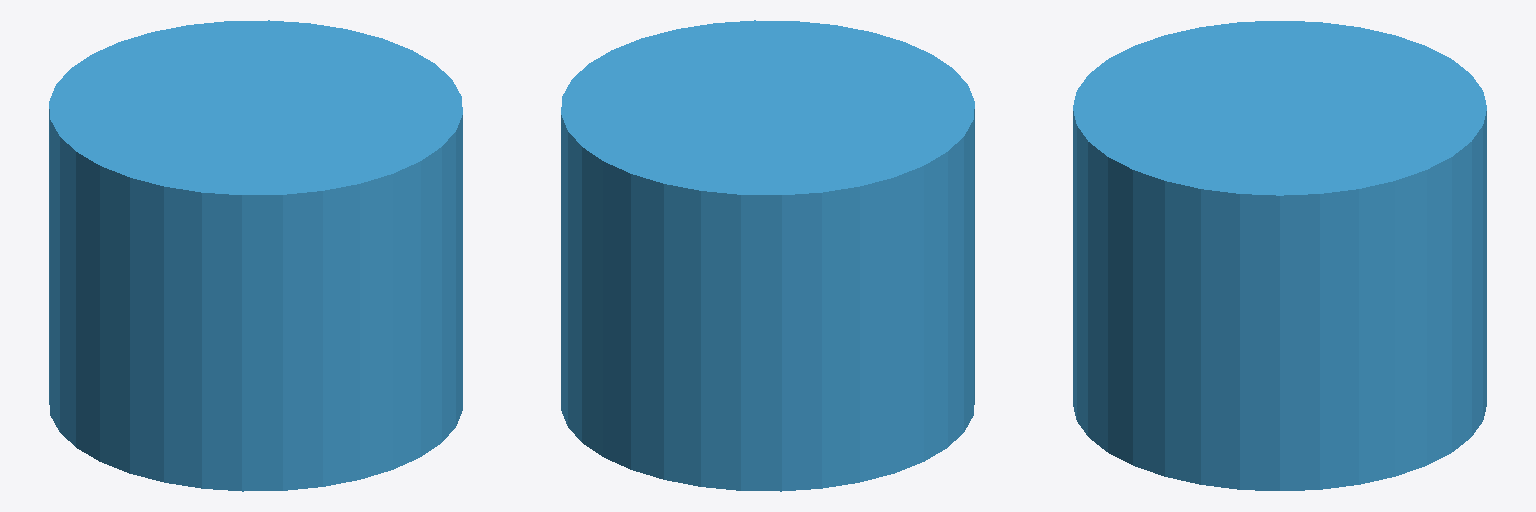
The robot description file, URDF, robot "typhoon_h480":
<?xml version="1.0" ?>
<robot name="typhoon_h480">
  <!-- Made all revolute joints fixed so that the transforms could appear in Rviz. Were not moving when revolute anyway. -->
  <joint name="typhoon_h480__cgo3_mount_joint" type="fixed">
    <parent link="base_link"/>
    <child link="typhoon_h480__cgo3_mount_link"/>
    <origin xyz="0   0   0.26" rpy="0 0 0"/>
    <axis xyz="0 0 1"/>
    <limit lower="0.0" upper="0.0" effort="100.0" velocity="-1.0"/>
  </joint>
  <joint name="typhoon_h480__cgo3_vertical_arm_joint" type="fixed"> 
    <parent link="typhoon_h480__cgo3_mount_link"/>
    <child link="typhoon_h480__cgo3_vertical_arm_link"/>
    <origin xyz="-0.026  0    -0.1" rpy="0 0 0"/>
    <axis xyz="0 0 1"/>
    <limit lower="-1e+16" upper="1e+16" effort="100.0" velocity="-1.0"/>
  </joint>
  <joint name="typhoon_h480__cgo3_horizontal_arm_joint" type="fixed">
    <parent link="typhoon_h480__cgo3_vertical_arm_link"/>
    <child link="typhoon_h480__cgo3_horizontal_arm_link"/>
    <origin xyz="-0.044  0    -0.062" rpy="0 0 0"/>
    <axis xyz="-1  0  0"/>
    <limit lower="-0.785398" upper="0.785398" effort="100.0" velocity="-1.0"/>
  </joint>
  <joint name="typhoon_h480__cgo3_camera_joint" type="fixed">
    <parent link="typhoon_h480__cgo3_horizontal_arm_link"/>
    <child link="camera_link"/>
    <origin xyz="0.06 0.03 0" rpy="0 0 0"/>
    <axis xyz="0 -1  0"/>
    <limit lower="-1.5708" upper="0.7854" effort="100.0" velocity="-1.0"/>
  </joint>
  <joint name="typhoon_h480__left_leg_joint" type="fixed">
    <parent link="base_link"/>
    <child link="typhoon_h480__left_leg"/>
    <origin xyz="0.00025 -0.04051  0.212" rpy="0 0 0"/>
    <axis xyz="-1  0  0"/>
    <limit lower="0.0" upper="1.0" effort="100.0" velocity="-1.0"/>
  </joint>
  <joint name="typhoon_h480__right_leg_joint" type="fixed">
    <parent link="base_link"/>
    <child link="typhoon_h480__right_leg"/>
    <origin xyz="0.00025 0.04051 0.212" rpy="0 0 0"/>
    <axis xyz="1 0 0"/>
    <limit lower="0.0" upper="1.0" effort="100.0" velocity="-1.0"/>
  </joint>
  <joint name="typhoon_h480__typhoon_h480/imu_joint" type="fixed">
    <parent link="base_link"/>
    <child link="imu_link"/>
    <origin xyz="0   0   0.26" rpy="0 0 0"/>
    <axis xyz="1 0 0"/>
    <limit lower="0.0" upper="0.0" effort="0.0" velocity="0.0"/>
  </joint>
  <joint name="typhoon_h480__lidar_joint" type="fixed">
    <parent link="base_link"/>
    <child link="lidar_link"/>
    <origin xyz="0   0   0.26" rpy="0 0 0"/>
    <axis xyz="0 0 0"/>
    <limit lower="0" upper="0" effort="0" velocity="0"/>
  </joint>
  <joint name="typhoon_h480__gps_joint" type="fixed">
    <parent link="base_link"/>
    <child link="gps_link"/>
    <origin xyz="0   0   0.26" rpy="0 0 0"/>
    <axis xyz="0 0 0"/>
    <limit lower="0" upper="0" effort="0" velocity="0"/>
  </joint>
  <joint name="typhoon_h480__rotor_3_joint" type="fixed">
    <parent link="base_link"/>
    <child link="typhoon_h480__rotor_3"/>
    <origin xyz="0.21139 0.11976 0.34221" rpy="0 0 0"/>
    <axis xyz="0 0 1"/>
    <limit lower="-1e+16" upper="1e+16" effort="10.0" velocity="-1.0"/>
  </joint>
  <joint name="typhoon_h480__rotor_0_joint" type="fixed">
    <parent link="base_link"/>
    <child link="typhoon_h480__rotor_0"/>
    <origin xyz="-0.20939  0.12276  0.34221" rpy="0      0      2.09439"/>
    <axis xyz="0 0 1"/>
    <limit lower="-1e+16" upper="1e+16" effort="10.0" velocity="-1.0"/>
  </joint>
  <joint name="typhoon_h480__rotor_4_joint" type="fixed">
    <parent link="base_link"/>
    <child link="typhoon_h480__rotor_4"/>
    <origin xyz="-0.00187  0.2427   0.34221" rpy="0 0 0"/>
    <axis xyz="0 0 1"/>
    <limit lower="-1e+16" upper="1e+16" effort="10.0" velocity="-1.0"/>
  </joint>
  <joint name="typhoon_h480__rotor_1_joint" type="fixed">
    <parent link="base_link"/>
    <child link="typhoon_h480__rotor_1"/>
    <origin xyz="0.21139 -0.11976  0.34221" rpy="0       0      -2.09439"/>
    <axis xyz="0 0 1"/>
    <limit lower="-1e+16" upper="1e+16" effort="10.0" velocity="-1.0"/>
  </joint>
  <joint name="typhoon_h480__rotor_5_joint" type="fixed">
    <parent link="base_link"/>
    <child link="typhoon_h480__rotor_5"/>
    <origin xyz="-0.00187 -0.2427   0.34221" rpy="0       0      -2.09439"/>
    <axis xyz="0 0 1"/>
    <limit lower="-1e+16" upper="1e+16" effort="10.0" velocity="-1.0"/>
  </joint>
  <joint name="typhoon_h480__rotor_2_joint" type="fixed">
    <parent link="base_link"/>
    <child link="typhoon_h480__rotor_2"/>
    <origin xyz="-0.20939 -0.12276  0.34221" rpy="0      0      2.09439"/>
    <axis xyz="0 0 1"/>
    <limit lower="-1e+16" upper="1e+16" effort="10.0" velocity="-1.0"/>
  </joint>
  <joint name="depth_camera_optical_joint" type="fixed">
    <parent link="camera_link"/>
    <child link="depth_camera_optical_link"/>
    <origin rpy="-1.57079632679 0 -1.57079632679" xyz="0 0 0"/>
    <axis xyz="0 0 0"/>
  </joint>
  <link name="depth_camera_optical_link"></link>
  <link name="base_link">
    <inertial>
      <mass value="2.02"/>
      <origin xyz="0.001  0    -0.009" rpy="0 0 0"/>
      <inertia ixx="0.011" ixy="0" ixz="0" iyy="0.015" iyz="0" izz="0.021"/>
    </inertial>
    <collision name="base_link_collision">
      <origin xyz="0   0   0.26" rpy="0 0 0"/>
      <geometry>
        <box size="0.67 0.67 0.15"/>
      </geometry>
    </collision>
    <visual name="base_link_visual">
      <origin xyz="0   0   0.26" rpy="0      0      3.14159"/>
      <geometry>
        <mesh filename="package://drone_nav/description/meshes/main_body_remeshed_v3.stl" scale="0.001 0.001 0.001"/>
      </geometry>
    </visual>
  </link>
  <link name="typhoon_h480__cgo3_mount_link">
    <inertial>
      <mass value="0.1"/>
      <origin xyz="-0.041  0    -0.162" rpy="0 0 0"/>
      <inertia ixx="0.001" ixy="0" ixz="0" iyy="0.001" iyz="0" izz="0.001"/>
    </inertial>
    <visual name="typhoon_h480__cgo3_mount_visual">
      <origin xyz="0 0 0" rpy="0 0 0"/>
      <geometry>
        <mesh filename="package://drone_nav/description/meshes/cgo3_mount_remeshed_v1.stl" scale="0.001 0.001 0.001"/>
      </geometry>
    </visual>
  </link>
  <link name="typhoon_h480__cgo3_vertical_arm_link">
    <inertial>
      <mass value="0.1"/>
      <origin xyz="-0.041  0    -0.162" rpy="0 0 0"/>
      <inertia ixx="0.001" ixy="0" ixz="0" iyy="0.001" iyz="0" izz="0.001"/>
    </inertial>
    <visual name="typhoon_h480__cgo3_vertical_arm_visual">
      <origin xyz="-0.025  0     0.1" rpy="0      0      3.14159"/>
      <geometry>
        <mesh filename="package://drone_nav/description/meshes/cgo3_vertical_arm_remeshed_v1.stl" scale="0.001 0.001 0.001"/>
      </geometry>
    </visual>
  </link>
  <link name="typhoon_h480__cgo3_horizontal_arm_link">
    <inertial>
      <mass value="0.1"/>
      <origin xyz="-0.041  0    -0.081" rpy="0 0 0"/>
      <inertia ixx="0.001" ixy="0" ixz="0" iyy="0.001" iyz="0" izz="0.001"/>
    </inertial>
    <visual name="typhoon_h480__cgo3_horizontal_arm_visual">
      <origin xyz="0.02  0    0.162" rpy="0      0      3.14159"/>
      <geometry>
        <mesh filename="package://drone_nav/description/meshes/cgo3_horizontal_arm_remeshed_v1.stl" scale="0.001 0.001 0.001"/>
      </geometry>
    </visual>
  </link>
  <link name="camera_link">
    <inertial>
      <mass value="0.1"/>
      <origin xyz="-0.041  0    -0.162" rpy="0 0 0"/>
      <inertia ixx="0.001" ixy="0" ixz="0" iyy="0.001" iyz="0" izz="0.001"/>
    </inertial>
    <collision name="typhoon_h480__cgo3_camera_collision">
      <origin xyz="-0.031 -0.03   0" rpy="0 0 0"/>
      <geometry>
        <sphere radius="0.035"/>
      </geometry>
    </collision>
    <visual name="typhoon_h480__cgo3_camera_visual">
      <origin xyz="-0.04  -0.03   0.162" rpy="0      0      3.14159"/>
      <geometry>
        <mesh filename="package://drone_nav/description/meshes/cgo3_camera_remeshed_v1.stl" scale="0.001 0.001 0.001"/>
      </geometry>
    </visual>
  </link>
  <link name="typhoon_h480__left_leg">
    <inertial>
      <mass value="0.1"/>
      <origin xyz="0      -0.14313 -0.20725" rpy="0 0 0"/>
      <inertia ixx="0.001" ixy="0" ixz="0" iyy="0.001" iyz="0" izz="0.001"/>
    </inertial>
    <collision name="typhoon_h480__collision">
      <origin xyz="-0.00526 -0.10262 -0.15925" rpy="0      1.56893 0"/>
      <geometry>
        <cylinder radius="0.012209" length="0.3"/>
      </geometry>
    </collision>
    <collision name="typhoon_h480__collision_bar">
      <origin xyz="0.00025 -0.04451 -0.07318" rpy="-0.50131  0       0"/>
      <geometry>
        <cylinder radius="0.00914984" length="0.176893"/>
      </geometry>
    </collision>
    <visual name="base_link_left_leg">
      <origin xyz="-0.00025  0.04051  0.048" rpy="0 0 0"/>
      <geometry>
        <mesh filename="package://drone_nav/description/meshes/leg2_remeshed_v3.stl" scale="0.001 0.001 0.001"/>
      </geometry>
    </visual>
  </link>
  <link name="typhoon_h480__right_leg">
    <inertial>
      <mass value="0.1"/>
      <origin xyz="0       0.14313 -0.20725" rpy="0 0 0"/>
      <inertia ixx="0.001" ixy="0" ixz="0" iyy="0.001" iyz="0" izz="0.001"/>
    </inertial>
    <collision name="typhoon_h480__collision">
      <origin xyz="-0.00526  0.10262 -0.15925" rpy="0      1.56893 0"/>
      <geometry>
        <cylinder radius="0.012209" length="0.3"/>
      </geometry>
    </collision>
    <collision name="typhoon_h480__collision_bar">
      <origin xyz="0.00025  0.04451 -0.07318" rpy="0.50131 0      0"/>
      <geometry>
        <cylinder radius="0.00914984" length="0.176893"/>
      </geometry>
    </collision>
    <visual name="base_link_right_leg">
      <origin xyz="-0.00025 -0.04051  0.048" rpy="0 0 0"/>
      <geometry>
        <mesh filename="package://drone_nav/description/meshes/leg1_remeshed_v3.stl" scale="0.001 0.001 0.001"/>
      </geometry>
    </visual>
  </link>
  <link name="imu_link">
    <inertial>
      <mass value="0.015"/>
      <origin xyz="0 0 0" rpy="0 0 0"/>
      <inertia ixx="1e-05" ixy="0" ixz="0" iyy="1e-05" iyz="0" izz="1e-05"/>
    </inertial>
  </link>
  <link name="lidar_link">
    <inertial>
      <mass value="0.114"/>
      <origin xyz="0.06 0   0.06" rpy="0 0 0"/>
      <inertia ixx="0.001" ixy="0.000" ixz="0.000" iyy="0.001" iyz="0.000" izz="0.001"/>
    </inertial>
    <collision name="typhoon_h480__lidar_collision">
      <origin xyz="0.06 0   0.06" rpy="0 0 0"/>
      <geometry>
        <cylinder radius="0.0508" length="0.07"/>
      </geometry>
    </collision>
    <visual name="typhoon_h480__lidar_visual">
      <origin xyz="0.02 0   0.04" rpy="0 0 0"/>
      <geometry>
        <cylinder radius="0.0508" length="0.08"/>
      </geometry>
    </visual>
  </link>
  <!-- <link name="depth_camera_link">
    <inertial>
      <mass value="0"/>
      <origin rpy="0 0 0" xyz="0 0 0"/>
      <inertia ixx="0" ixy="0" ixz="0" iyy="0" iyz="0" izz="0"/>
    </inertial>
    <visual name="typhoon_h480__camera_visual">
      <origin rpy="0 0 0" xyz="0.047  0    -0.01"/>
      <geometry>
        <box size="0.015 0.08 0.022"/>
      </geometry>
    </visual>
  </link> -->
  <link name="gps_link">
    <inertial>
      <mass value="0.015"/>
      <origin xyz="0 0 0" rpy="0 0 0"/>
      <inertia ixx="1e-05" ixy="0" ixz="0" iyy="1e-05" iyz="0" izz="1e-05"/>
    </inertial>
    <visual name="typhoon_h480__visual">
      <origin xyz="0 0 0" rpy="0 0 0"/>
      <geometry>
        <cylinder radius="0.01" length="0.002"/>
      </geometry>
    </visual>
  </link>
  <link name="typhoon_h480__rotor_3">
    <inertial>
      <mass value="0.005"/>
      <origin xyz="0 0 0" rpy="0 0 0"/>
      <inertia ixx="9.75e-07" ixy="0" ixz="0" iyy="0.000273104" iyz="0" izz="0.000274004"/>
    </inertial>
    <collision name="typhoon_h480__rotor_3_collision">
      <origin xyz="0 0 0" rpy="0 0 0"/>
      <geometry>
        <cylinder radius="0.128" length="0.005"/>
      </geometry>
    </collision>
    <visual name="typhoon_h480__rotor_3_visual">
      <origin xyz="-0.21139 -0.11976 -0.08221" rpy="0 0 0"/>
      <geometry>
        <mesh filename="package://drone_nav/description/meshes/prop_ccw_assembly_remeshed_v3.stl" scale="0.001 0.001 0.001"/>
      </geometry>
    </visual>
  </link>
  <link name="typhoon_h480__rotor_0">
    <inertial>
      <mass value="0.005"/>
      <origin xyz="0 0 0" rpy="0 0 0"/>
      <inertia ixx="9.75e-07" ixy="0" ixz="0" iyy="0.000273104" iyz="0" izz="0.000274004"/>
    </inertial>
    <collision name="typhoon_h480__rotor_0_collision">
      <origin xyz="0 0 0" rpy="0 0 0"/>
      <geometry>
        <cylinder radius="0.128" length="0.005"/>
      </geometry>
    </collision>
    <visual name="typhoon_h480__rotor_0_visual">
      <origin xyz="-0.21139 -0.11976 -0.08221" rpy="0 0 0"/>
      <geometry>
        <mesh filename="package://drone_nav/description/meshes/prop_ccw_assembly_remeshed_v3.stl" scale="0.001 0.001 0.001"/>
      </geometry>
    </visual>
  </link>
  <link name="typhoon_h480__rotor_4">
    <inertial>
      <mass value="0.005"/>
      <origin xyz="0 0 0" rpy="0 0 0"/>
      <inertia ixx="9.75e-07" ixy="0" ixz="0" iyy="0.000273104" iyz="0" izz="0.000274004"/>
    </inertial>
    <collision name="typhoon_h480__rotor_4_collision">
      <origin xyz="0 0 0" rpy="0 0 0"/>
      <geometry>
        <cylinder radius="0.128" length="0.005"/>
      </geometry>
    </collision>
    <visual name="typhoon_h480__rotor_4_visual">
      <origin xyz="0.00187 -0.2427  -0.08221" rpy="0 0 0"/>
      <geometry>
        <mesh filename="package://drone_nav/description/meshes/prop_cw_assembly_remeshed_v3.stl" scale="0.001 0.001 0.001"/>
      </geometry>
    </visual>
  </link>
  <link name="typhoon_h480__rotor_1">
    <inertial>
      <mass value="0.005"/>
      <origin xyz="0 0 0" rpy="0 0 0"/>
      <inertia ixx="9.75e-07" ixy="0" ixz="0" iyy="0.000273104" iyz="0" izz="0.000274004"/>
    </inertial>
    <collision name="typhoon_h480__rotor_1_collision">
      <origin xyz="0 0 0" rpy="0 0 0"/>
      <geometry>
        <cylinder radius="0.128" length="0.005"/>
      </geometry>
    </collision>
    <visual name="typhoon_h480__rotor_1_visual">
      <origin xyz="0.00187 -0.2427  -0.08221" rpy="0 0 0"/>
      <geometry>
        <mesh filename="package://drone_nav/description/meshes/prop_cw_assembly_remeshed_v3.stl" scale="0.001 0.001 0.001"/>
      </geometry>
    </visual>
  </link>
  <link name="typhoon_h480__rotor_5">
    <inertial>
      <mass value="0.005"/>
      <origin xyz="0 0 0" rpy="0 0 0"/>
      <inertia ixx="9.75e-07" ixy="0" ixz="0" iyy="0.000273104" iyz="0" izz="0.000274004"/>
    </inertial>
    <collision name="typhoon_h480__rotor_5_collision">
      <origin xyz="0 0 0" rpy="0 0 0"/>
      <geometry>
        <cylinder radius="0.128" length="0.005"/>
      </geometry>
    </collision>
    <visual name="typhoon_h480__rotor_5_visual">
      <origin xyz="-0.21139 -0.11976 -0.08221" rpy="0 0 0"/>
      <geometry>
        <mesh filename="package://drone_nav/description/meshes/prop_ccw_assembly_remeshed_v3.stl" scale="0.001 0.001 0.001"/>
      </geometry>
    </visual>
  </link>
  <link name="typhoon_h480__rotor_2">
    <inertial>
      <mass value="0.005"/>
      <origin xyz="0 0 0" rpy="0 0 0"/>
      <inertia ixx="9.75e-07" ixy="0" ixz="0" iyy="0.000273104" iyz="0" izz="0.000274004"/>
    </inertial>
    <collision name="typhoon_h480__rotor_2_collision">
      <origin xyz="0 0 0" rpy="0 0 0"/>
      <geometry>
        <cylinder radius="0.128" length="0.005"/>
      </geometry>
    </collision>
    <visual name="typhoon_h480__rotor_2_visual">
      <origin xyz="0.00187 -0.2427  -0.08221" rpy="0 0 0"/>
      <geometry>
        <mesh filename="package://drone_nav/description/meshes/prop_cw_assembly_remeshed_v3.stl" scale="0.001 0.001 0.001"/>
      </geometry>
    </visual>
  </link>
</robot>

--- What the picture shows (computed from the rendered views, not written in the file) ---
3 views of the same robot in one strip: view 1: azimuth 30°, elevation 25°; view 2: azimuth 150°, elevation 25°; view 3: azimuth 270°, elevation 25° (orthographic).
Robot: typhoon_h480 — 17 links, 16 joints (16 fixed); root link base_link; default pose: every joint at zero.
Links seen in each view (by area): view 1: lidar_link; view 2: lidar_link; view 3: lidar_link.
Boxes of the visible links, x1,y1,x2,y2 form: lidar_link: [49, 20, 462, 491]; lidar_link: [561, 20, 974, 491]; lidar_link: [1073, 21, 1486, 490].
Size in the robot's own frame: 0.1016 by 0.1016 by 0.081 metres.
Meshes: 9 distinct files referenced, 0 mesh visuals loaded (none loaded); not drawn: 13 (reference not matched to a file when rendering).